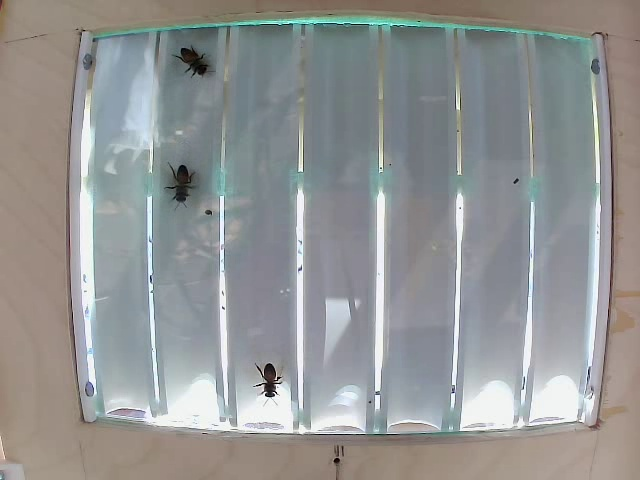bee: (248, 358, 294, 400), (166, 167, 206, 215), (177, 36, 213, 83)
